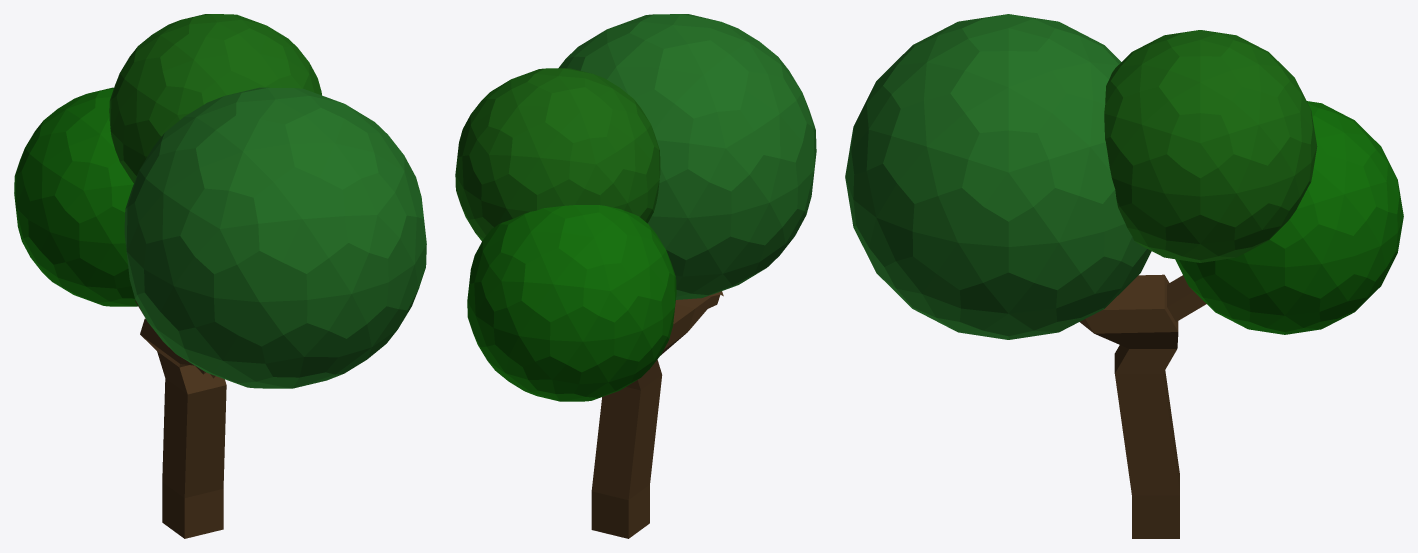
Rendered from tree 1.fbx.
3 views of the same model, side by side, from view 1: azimuth 30°, elevation 25°; view 2: azimuth 150°, elevation 25°; view 3: azimuth 270°, elevation 25° (orthographic). The views are drawn at different scales.
Visible parts, largest first — view 1: Icosphere.001, Icosphere, Icosphere.002, Cube; view 2: Icosphere.001, Icosphere, Icosphere.002, Cube; view 3: Icosphere.001, Icosphere.002, Icosphere, Cube.
Boxes of the visible parts, x1,y1,x2,y2 form: Icosphere.001: (124,87,426,388); Icosphere: (14,87,137,306); Icosphere.002: (109,14,321,182); Cube: (135,300,226,538); Icosphere.001: (558,14,816,299); Icosphere: (467,205,676,401); Icosphere.002: (455,68,660,240); Cube: (591,291,723,538); Icosphere.001: (845,14,1151,339); Icosphere.002: (1104,30,1317,262); Icosphere: (1175,101,1403,334); Cube: (1080,274,1206,538).
Size of the model in its own units: 1354 by 2347 by 2319.
